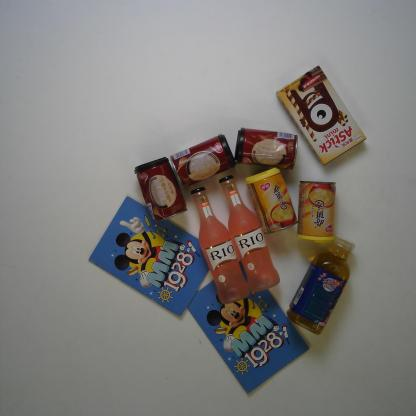Alcohol: (218, 174, 281, 293), (190, 186, 250, 305)
Canned Food: (170, 132, 238, 190), (132, 155, 188, 224), (243, 166, 298, 236), (232, 126, 300, 172), (295, 179, 337, 244)
Dessert: (274, 63, 368, 167)
Drink: (284, 233, 356, 338)
Stationery: (185, 257, 311, 398), (86, 194, 210, 318)
